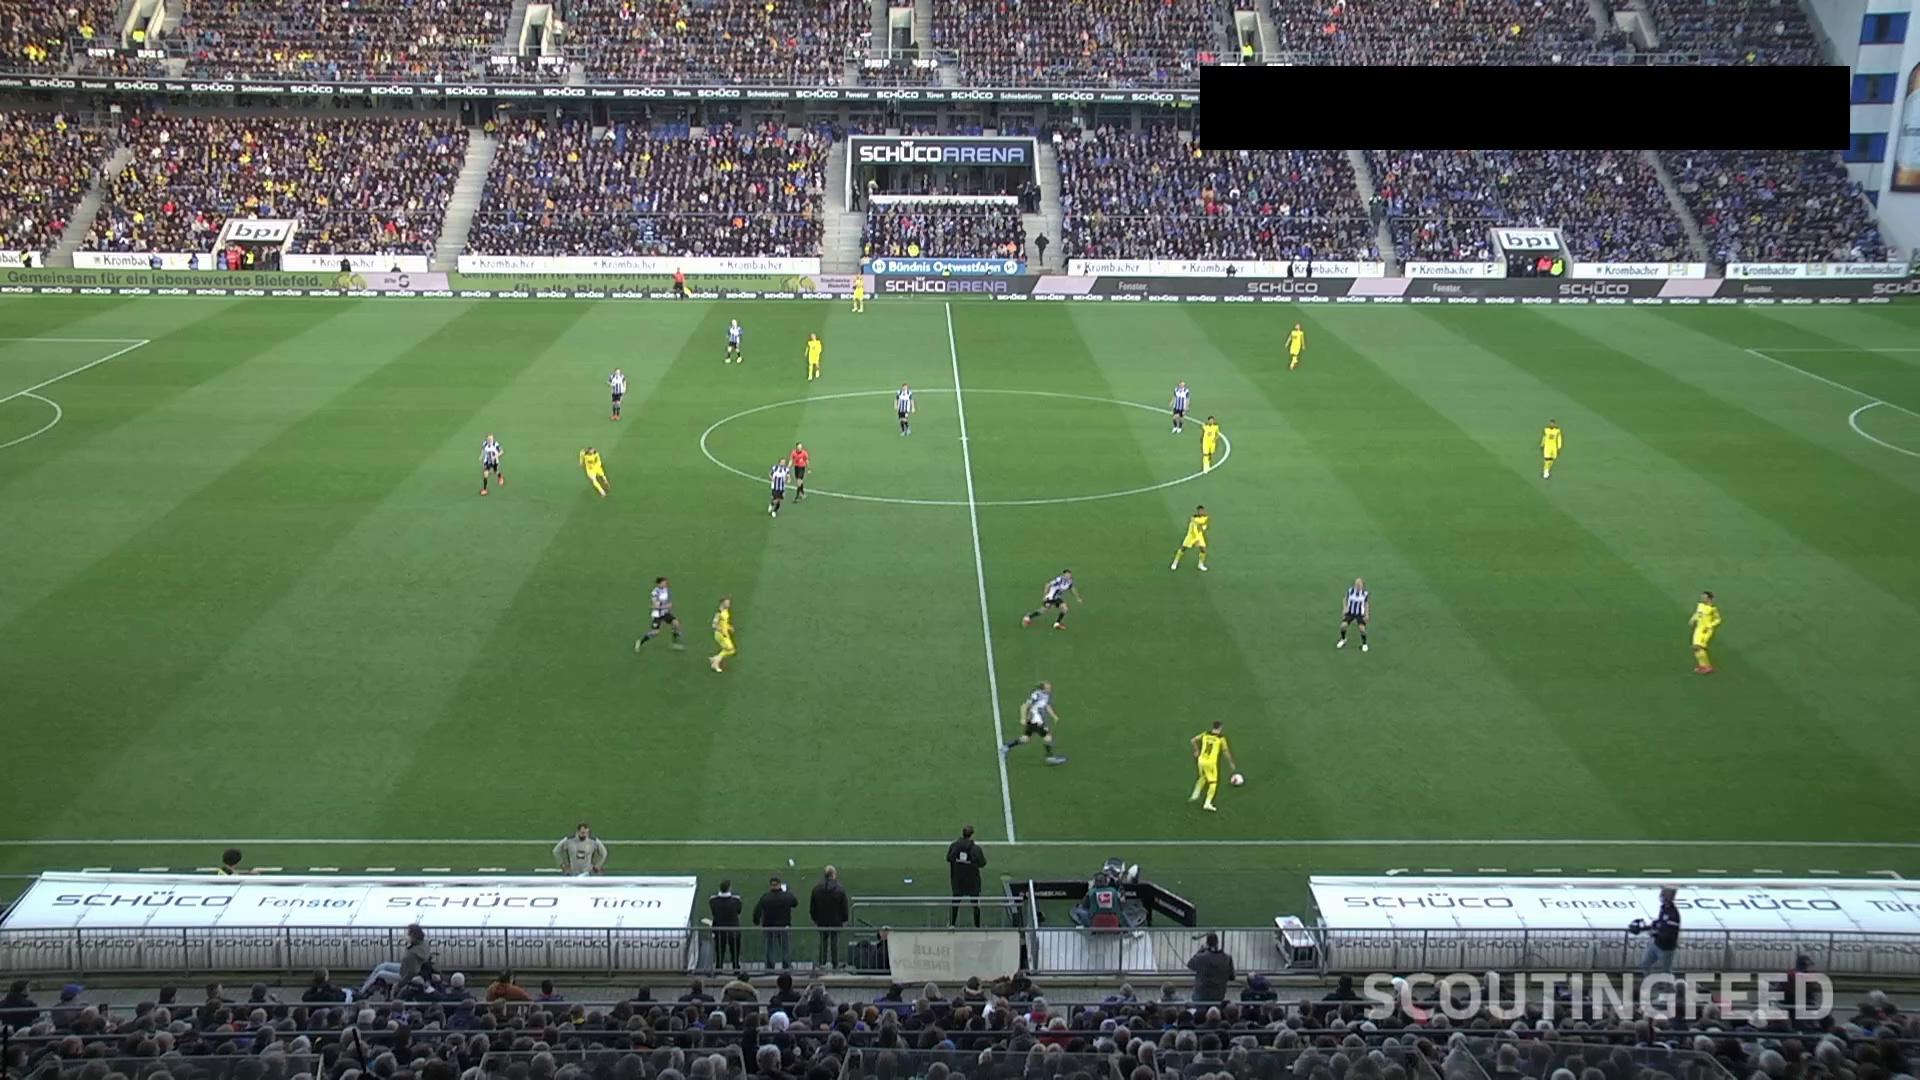Location-of-ball: (1213, 752, 1263, 800)
